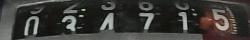digits: (207, 6, 229, 33), (134, 11, 156, 37), (58, 15, 78, 39), (98, 12, 115, 40), (176, 11, 191, 38), (23, 15, 39, 35)
